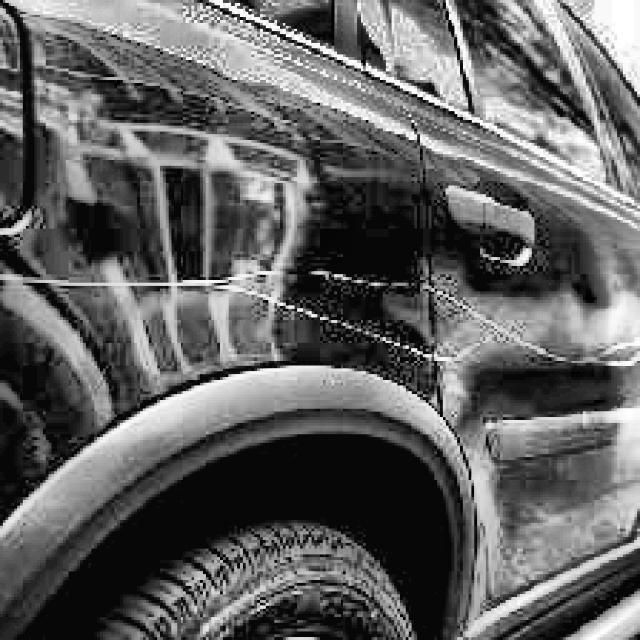door_scratch: (204, 255, 438, 346)
